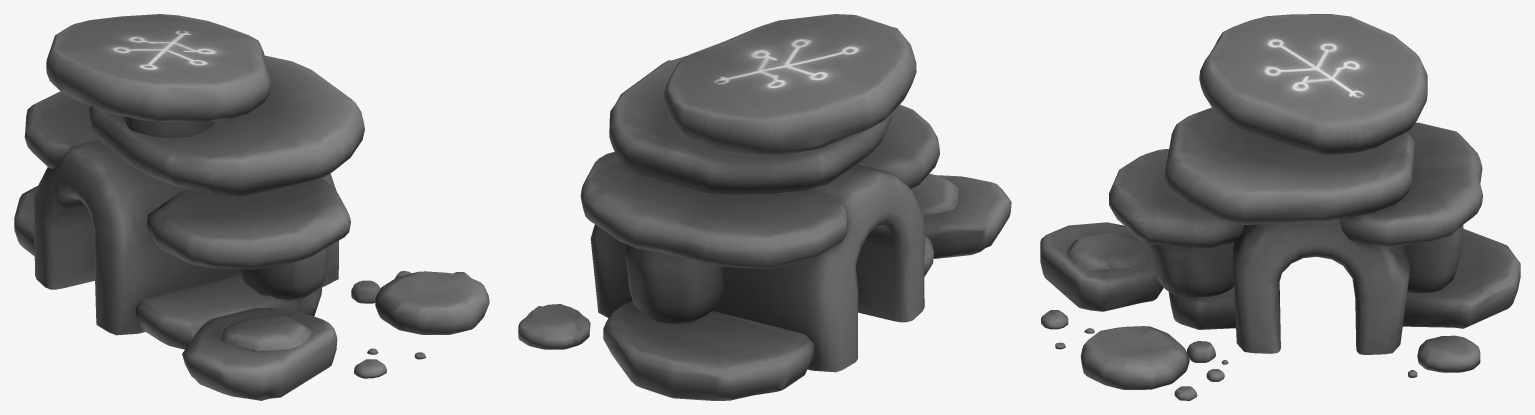
The model's file is stone_hut.glb.
3 views of the same model, side by side, from view 1: azimuth 30°, elevation 25°; view 2: azimuth 150°, elevation 25°; view 3: azimuth 270°, elevation 25° (orthographic). The views are drawn at different scales.
Parts seen in each view (by area): view 1: tripo_node_d6b349c6-8f17-48d5-a8ae-7390f96f4ce3; view 2: tripo_node_d6b349c6-8f17-48d5-a8ae-7390f96f4ce3; view 3: tripo_node_d6b349c6-8f17-48d5-a8ae-7390f96f4ce3.
Boxes of the visible parts, x1,y1,x2,y2 form: tripo_node_d6b349c6-8f17-48d5-a8ae-7390f96f4ce3: [14, 14, 489, 400]; tripo_node_d6b349c6-8f17-48d5-a8ae-7390f96f4ce3: [518, 14, 1011, 400]; tripo_node_d6b349c6-8f17-48d5-a8ae-7390f96f4ce3: [1040, 14, 1520, 400].
Size of the model in its own units: 2.68 by 1.91 by 3.49.
Materials: 1 (1 with a texture image).
